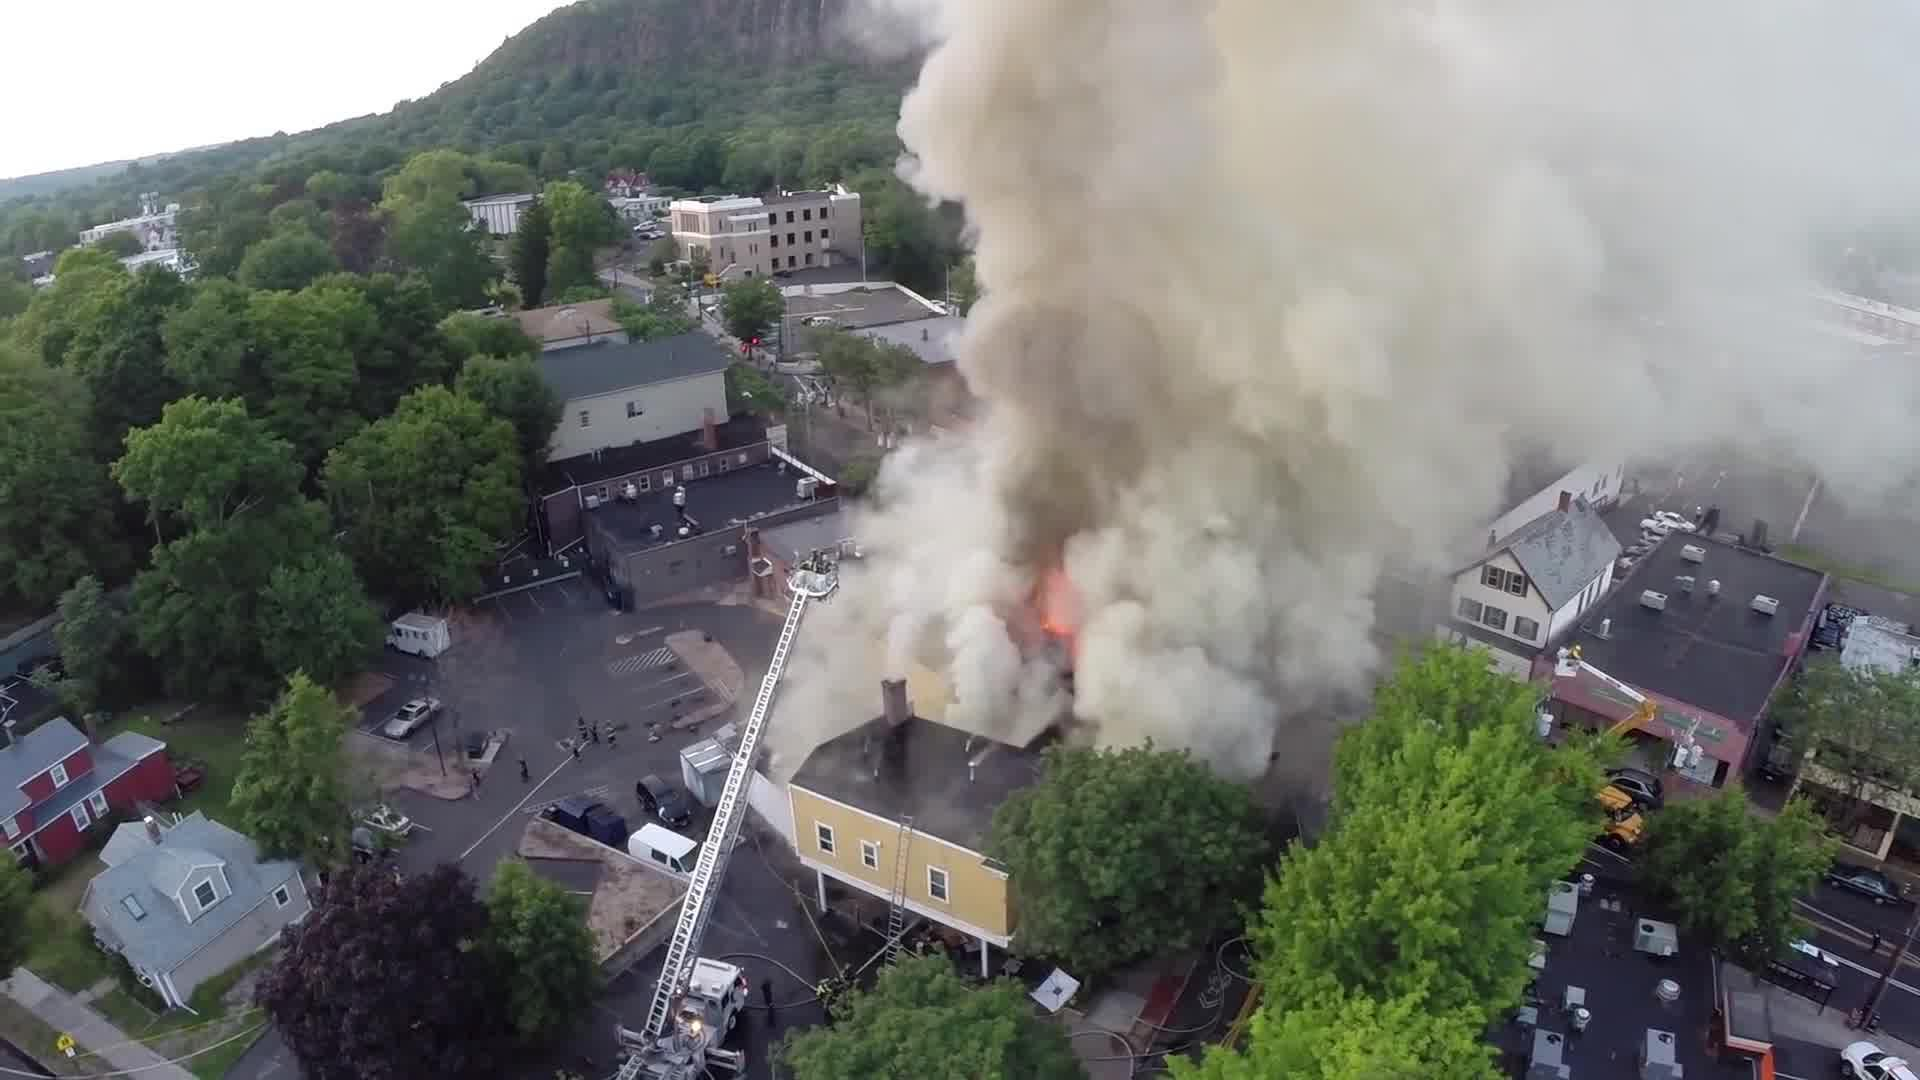smoke: (887, 0, 1920, 500), (878, 518, 1412, 707)
